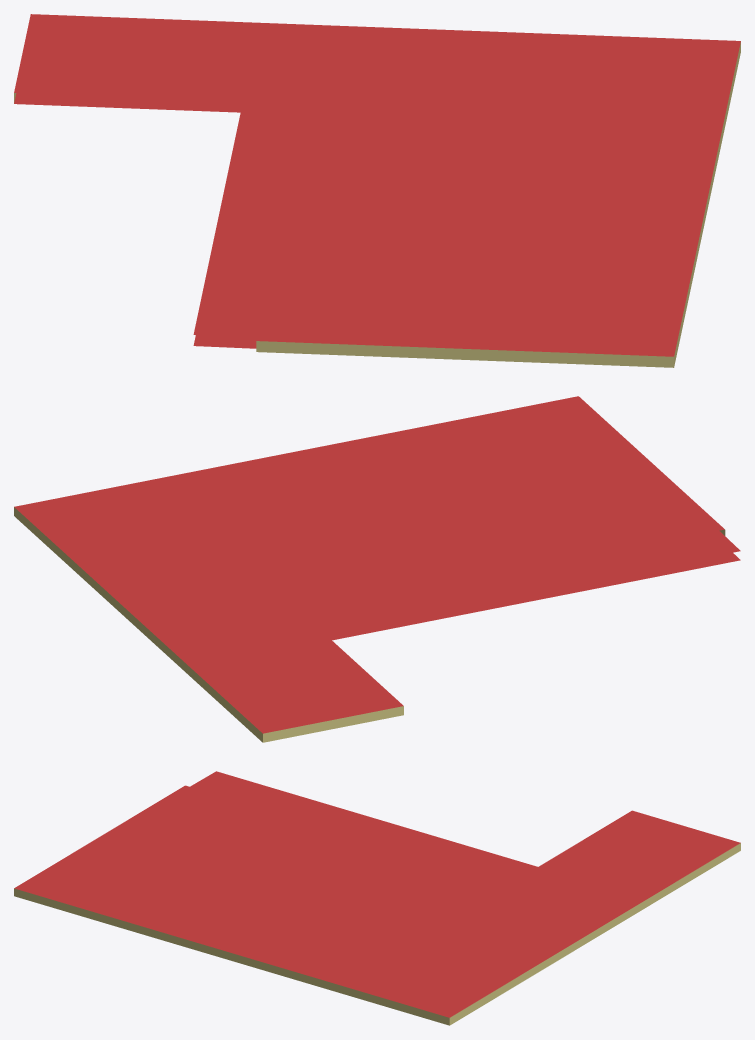
3 renders of one model, top to bottom at view 1: azimuth 30°, elevation 25°; view 2: azimuth 150°, elevation 25°; view 3: azimuth 270°, elevation 25°, orthographic. The views are drawn at different scales.
Bounding box in the file's own units: 6.74 × 8.4 × 0.1.
